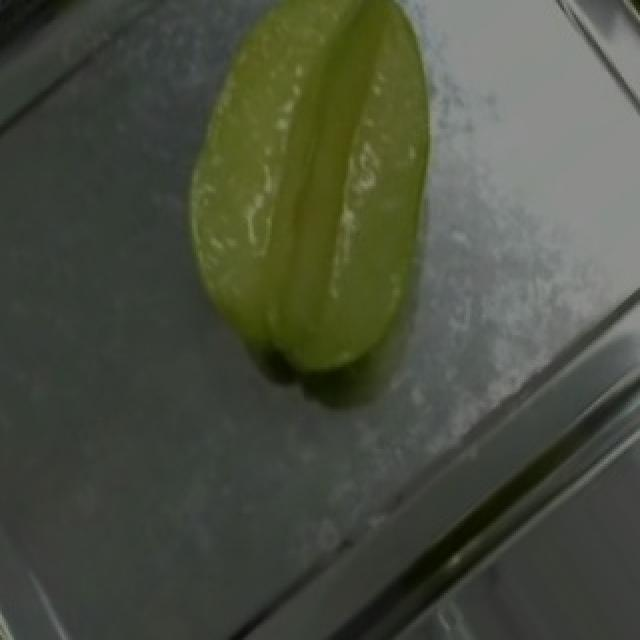fruit: (162, 0, 516, 357)
